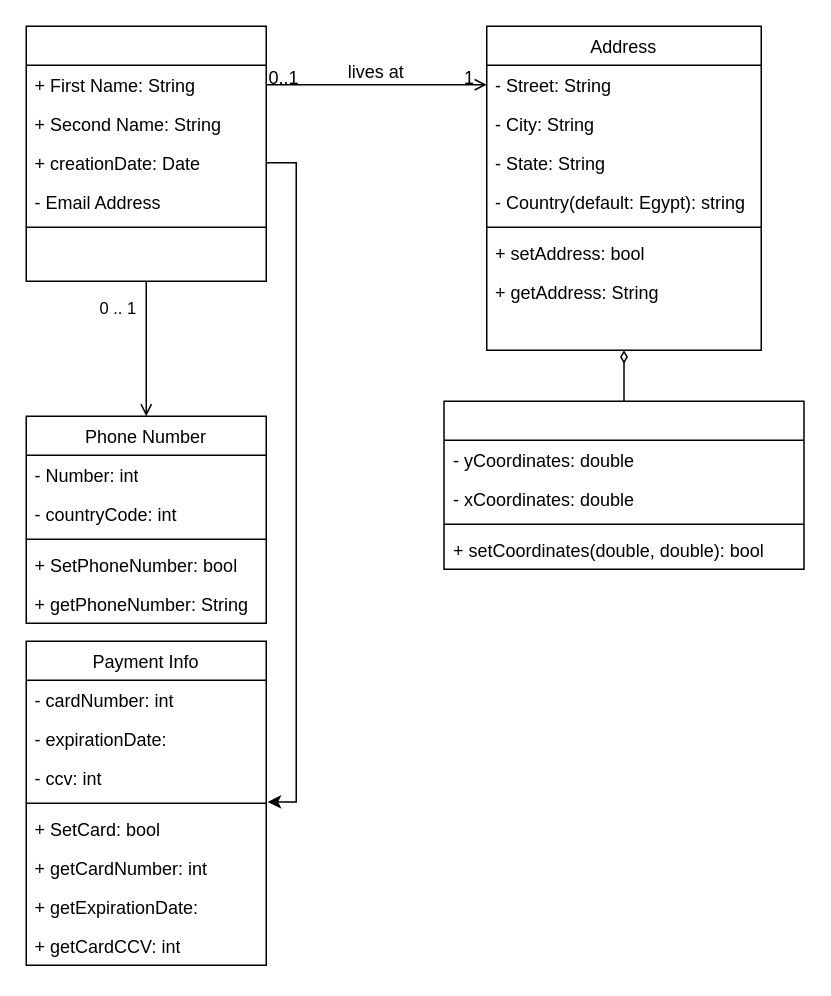
Image size: 831x996. Some labels were removed from this diagram. Here are the shapes that lost their labels. From the top down, the box of each, then its label:
(25, 25, 266, 281): customer
(442, 400, 804, 569): map coordinates
